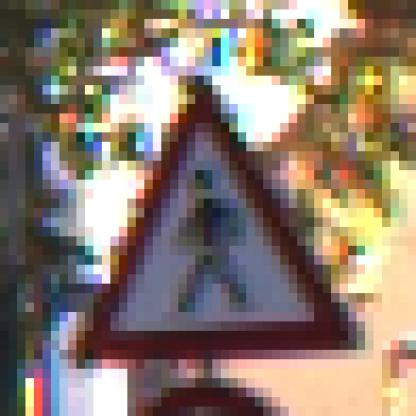crosswalk: (67, 90, 374, 379)
